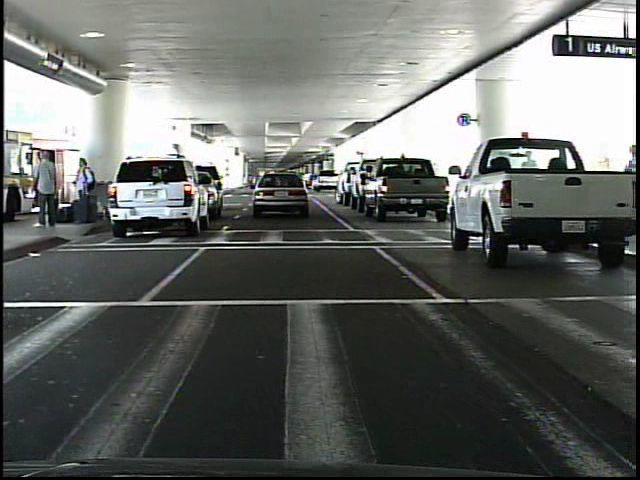person: (30, 149, 61, 229), (70, 156, 95, 226)
